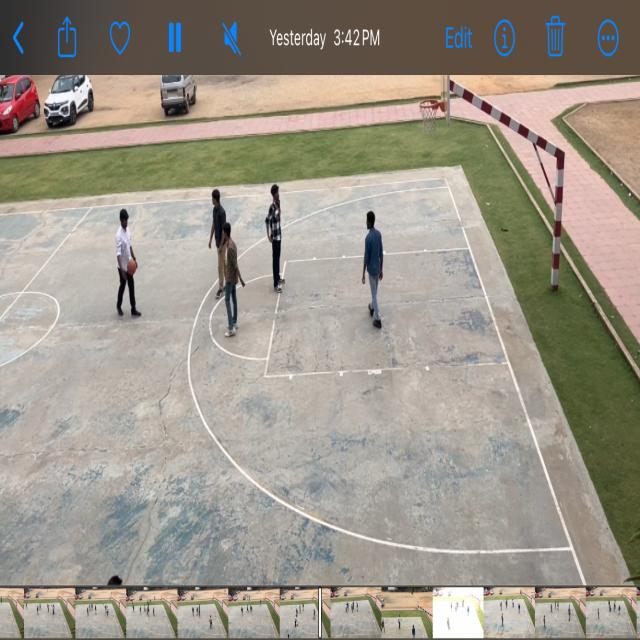basketball: (125, 255, 138, 280)
hoop: (417, 94, 441, 139)
